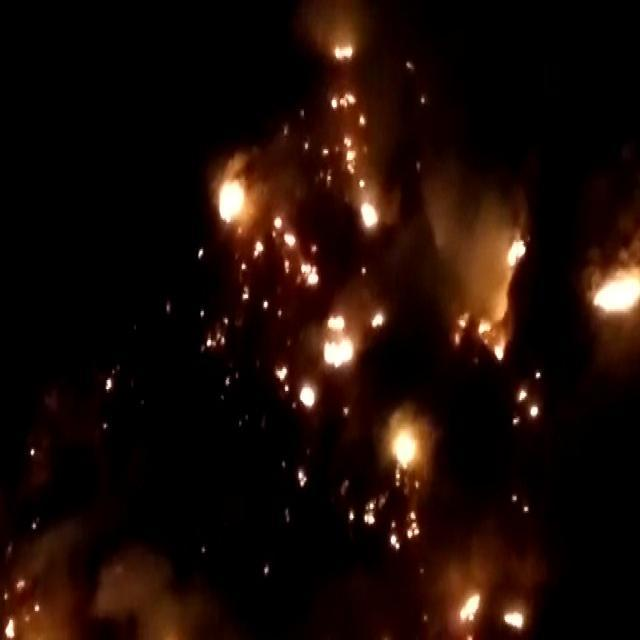Fire: (208, 165, 320, 298), (270, 309, 383, 411), (347, 407, 426, 549), (330, 33, 386, 231), (584, 229, 638, 327), (453, 578, 526, 638), (455, 307, 508, 358), (506, 232, 526, 268)
Smoke: (413, 154, 537, 322)
